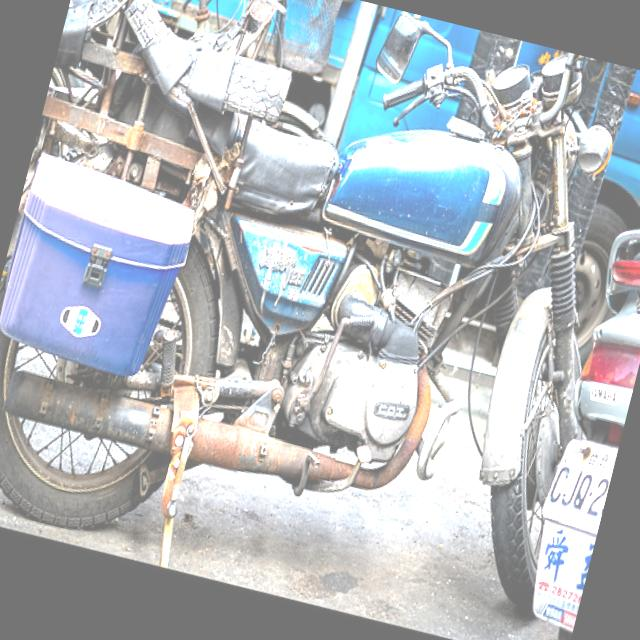Vehicle: (0, 0, 640, 640), (15, 0, 640, 374), (503, 190, 640, 640)
